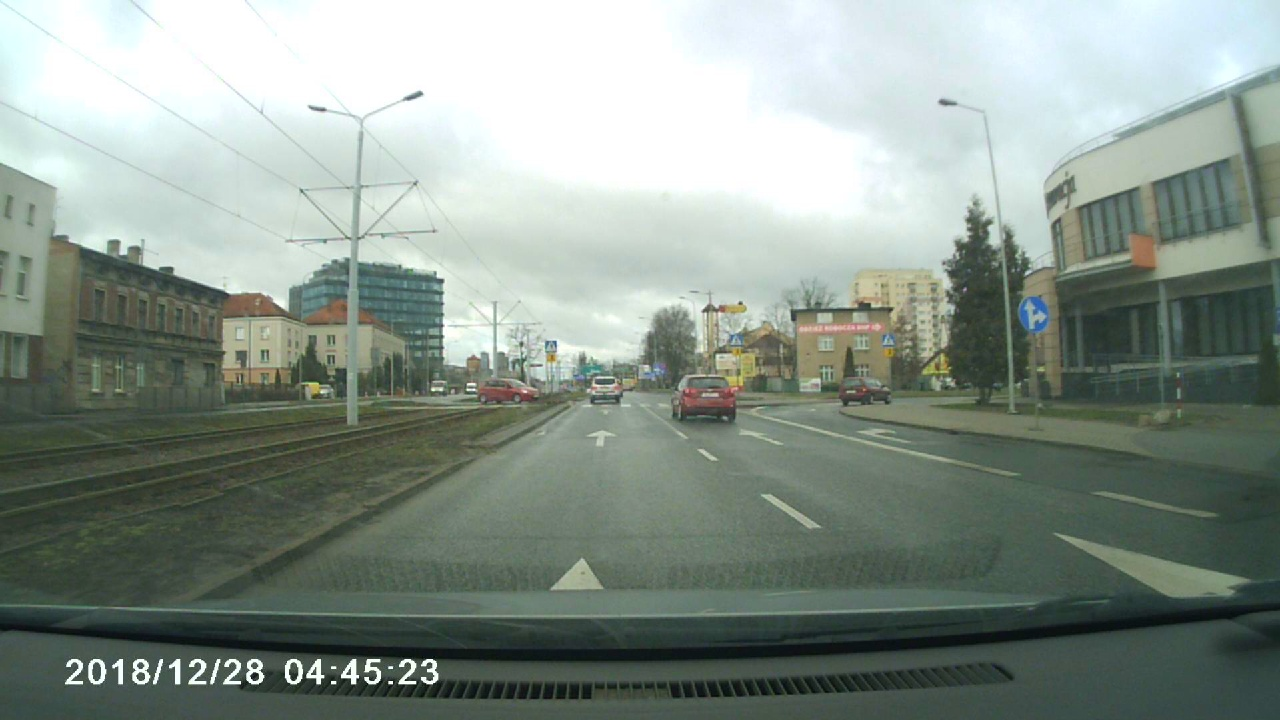C6: (1013, 294, 1054, 333)
